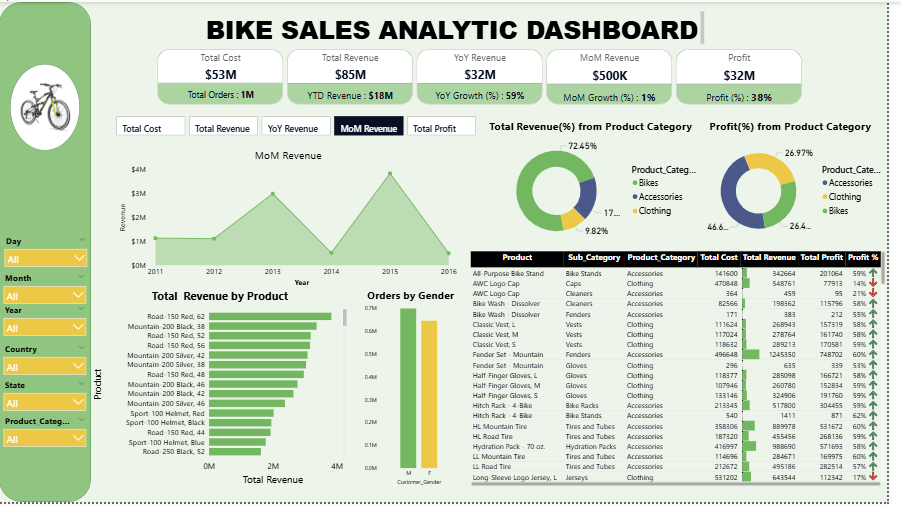

The page's visual inventory and layout, read from the dashboard file:
{"tool":"powerbi","page":{"name":"Page 1","canvas":[1920,1080],"ordinal":0},"visuals":[{"type":"barChart","title":"Revenue by Product","fields":{"Category":["Sales.Product"],"Y":["Sales.Total  Revenue"]},"box":[197.7,618.7,557,431.6],"z":0},{"type":"shape","box":[0,0,198.7,1080],"z":1000},{"type":"slicer","fields":{"Values":["Sales.Product_Category"]},"box":[0,872.6,198.7,88.6],"z":2000},{"type":"columnChart","title":"Sales by Gender","fields":{"Category":["Sales.Customer_Gender"],"Y":["Sum(Sales.Order_Quantity)"]},"box":[784.5,618.7,210.5,431.6],"z":3000},{"type":"donutChart","title":"Revenue(%) by Product Category","fields":{"Category":["Sales.Product_Category"],"Y":["Sum(Sales.Revenue)"]},"box":[1093,252.7,427.7,280.8],"z":4000},{"type":"textbox","box":[436.3,15.1,1092,83],"z":5000},{"type":"shape","box":[23.4,133.9,150.9,187.1],"z":6000},{"type":"image","box":[34,170.1,131.8,112.7],"z":7000},{"type":"cardVisual","fields":{"Data":["Sum(Sales.Cost)","Sum(Sales.Revenue)","Sales.YoY Revenue","Sales.MoM Revenue Growth","Sum(Sales.Profit)"]},"box":[354.2,97.2,1317.6,129.6],"z":8000},{"type":"donutChart","title":"Profit(%) by Product Category","fields":{"Category":["Sales.Product_Category"],"Y":["Sales.Profit %"]},"box":[1529.3,252.7,391,280.8],"z":9000},{"type":"areaChart","fields":{"Y":["Sales.Total Order"],"Category":["Sales.Year"]},"box":[241.9,298.1,775.4,319.7],"z":10000},{"type":"advancedSlicerVisual","fields":{"Values":["Selector.Selector"]},"box":[218.2,239.8,874.8,58.3],"z":11000},{"type":"tableEx","fields":{"Values":["Sales.Product","Sales.Sub_Category","Sales.Product_Category","Sales.Total Cost","Sales.Total  Revenue","Sales.Total Profit","Sales.Profit %"]},"box":[1014.1,533.6,905.7,516.6],"z":12000},{"type":"slicer","fields":{"Values":["Sales.Country"]},"box":[0,729.2,197.7,87.2],"z":13000},{"type":"slicer","fields":{"Values":["Sales.Year"]},"box":[0,646.3,197.7,87.2],"z":14000},{"type":"slicer","fields":{"Values":["Sales.Month"]},"box":[0,576.1,197.7,87.2],"z":15000},{"type":"slicer","fields":{"Values":["Sales.Day"]},"box":[2.1,497.5,197.7,121.2],"z":16000},{"type":"slicer","fields":{"Values":["Sales.State"]},"box":[0,797,198.7,105.8],"z":17000},{"type":"slicer","fields":{"Values":["Sales.Age_Group"]},"box":[0,943.9,196.6,86.4],"z":18000}]}

Visuals, with their boxes in screenshot pixels (x1, y1, x2, y2), scaled from the page's 1920x1080 canvas onto the 901x506 screenshot:
"Revenue by Product" barChart: x1=93 y1=290 x2=354 y2=492
shape: x1=0 y1=0 x2=93 y2=505
slicer - Sales.Product_Category: x1=0 y1=409 x2=93 y2=450
"Sales by Gender" columnChart: x1=368 y1=290 x2=467 y2=492
"Revenue(%) by Product Category" donutChart: x1=513 y1=118 x2=714 y2=250
textbox: x1=205 y1=7 x2=717 y2=46
shape: x1=11 y1=63 x2=82 y2=150
image: x1=16 y1=80 x2=78 y2=132
cardVisual - Sum(Sales.Cost) x Sum(Sales.Revenue): x1=166 y1=46 x2=785 y2=106
"Profit(%) by Product Category" donutChart: x1=718 y1=118 x2=900 y2=250
areaChart - Sales.Total Order x Sales.Year: x1=114 y1=140 x2=477 y2=289
advancedSlicerVisual - Selector.Selector: x1=102 y1=112 x2=513 y2=140
tableEx - Sales.Product x Sales.Sub_Category: x1=476 y1=250 x2=900 y2=492
slicer - Sales.Country: x1=0 y1=342 x2=93 y2=382
slicer - Sales.Year: x1=0 y1=303 x2=93 y2=344
slicer - Sales.Month: x1=0 y1=270 x2=93 y2=311
slicer - Sales.Day: x1=1 y1=233 x2=94 y2=290
slicer - Sales.State: x1=0 y1=373 x2=93 y2=423
slicer - Sales.Age_Group: x1=0 y1=442 x2=92 y2=483
